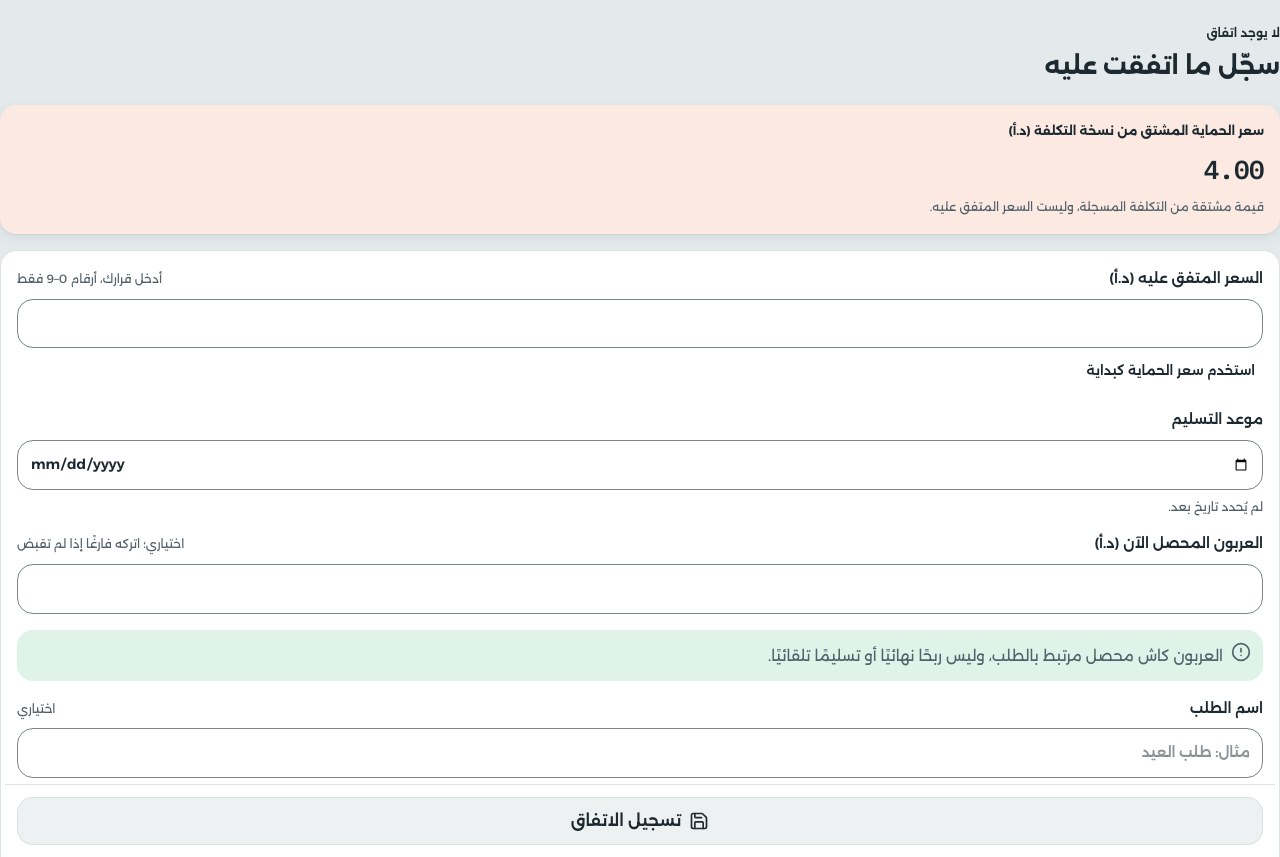
it: R10-B4/NF-016 — AgreementEditor explicit read state machine › a draft with a valid cost snapshot reaches the ready editor; a premature save announces the validation error
Expected: the heading "سجّل ما اتفقت عليه" is shown, [1044,51,1279,80]
Click the button "تسجيل الاتفاق": (640, 821) [17,797,1263,845]
(page scrolled)
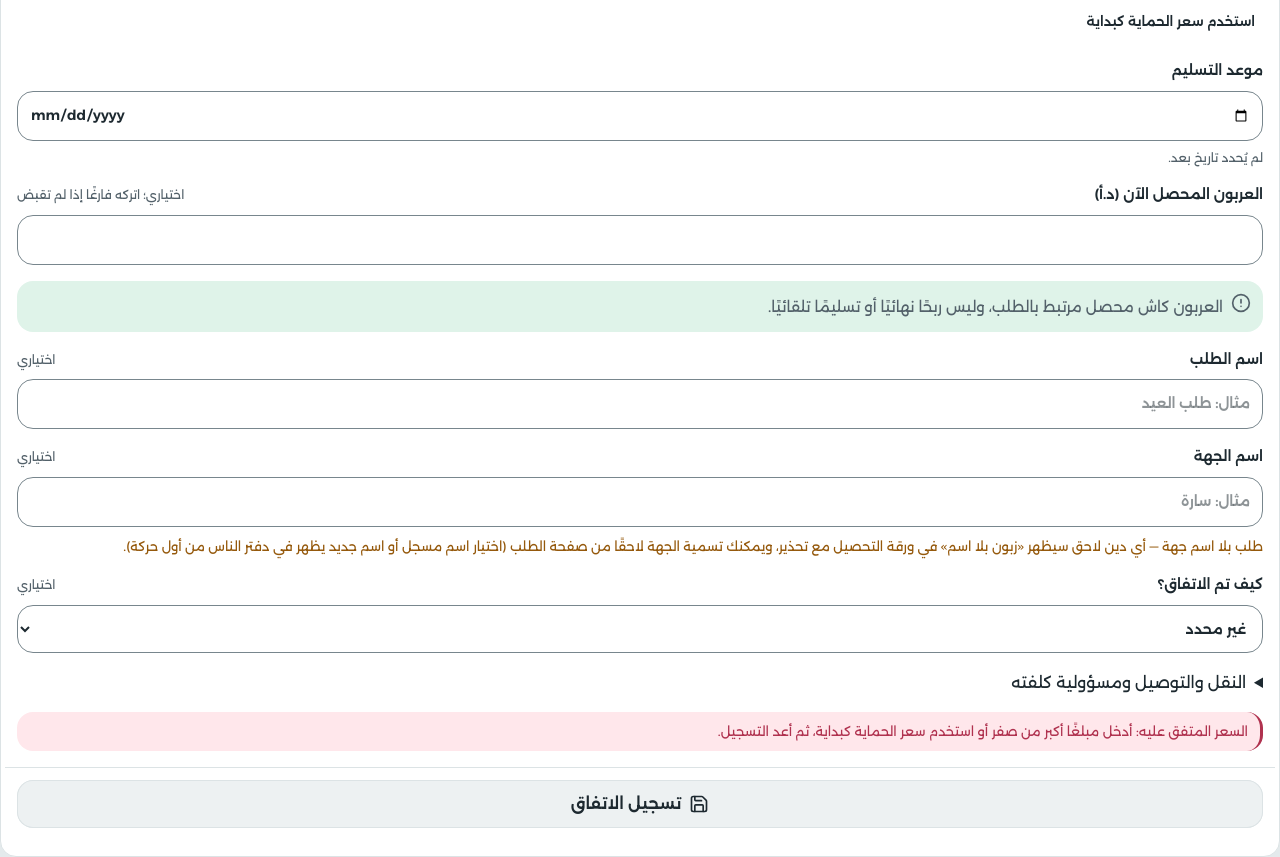
Result: the message shows "السعر المتفق عليه" at [718,723,1248,739]
